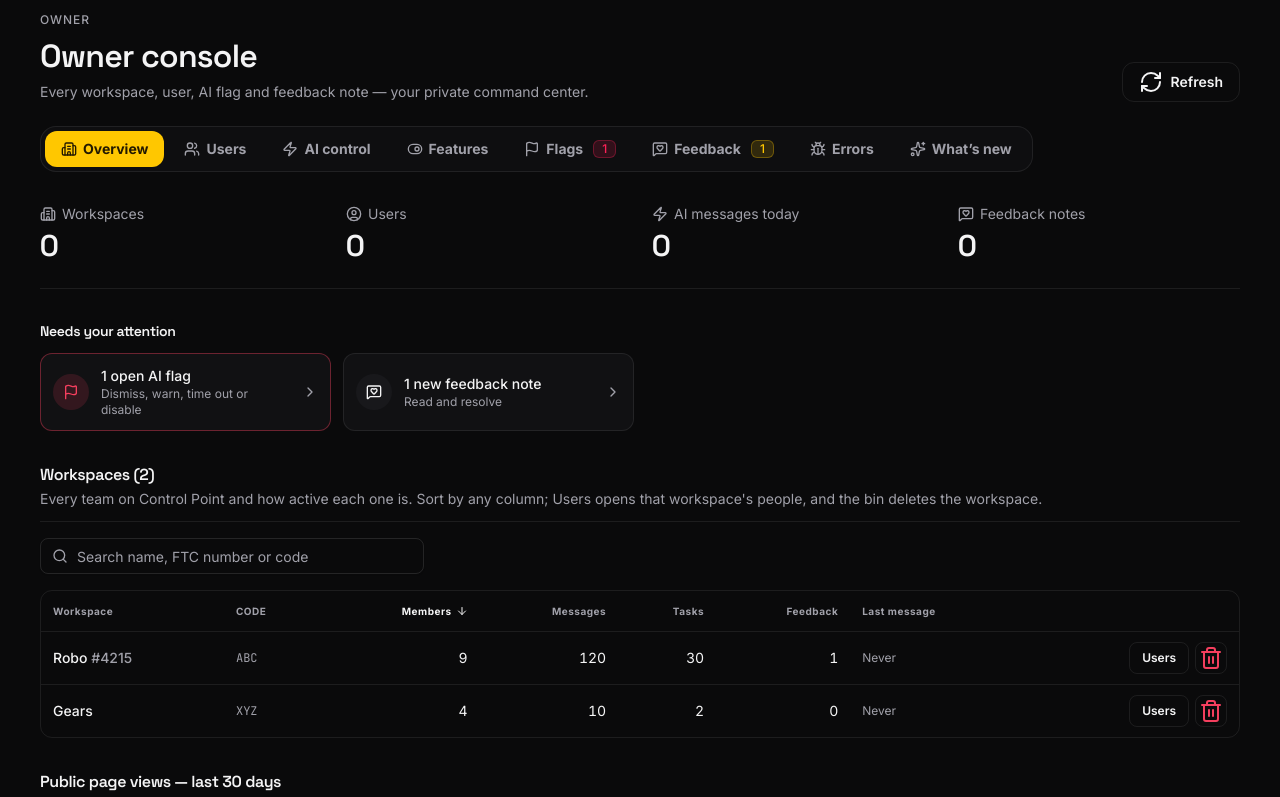
Test: Modern Owner console › feedback: resolving removes it
expect the cell "Robo #4215" is shown: met, box [41, 631, 224, 684]
Press the mouse on the tab "Feedback 1" at (713, 149), box [636, 131, 790, 167]
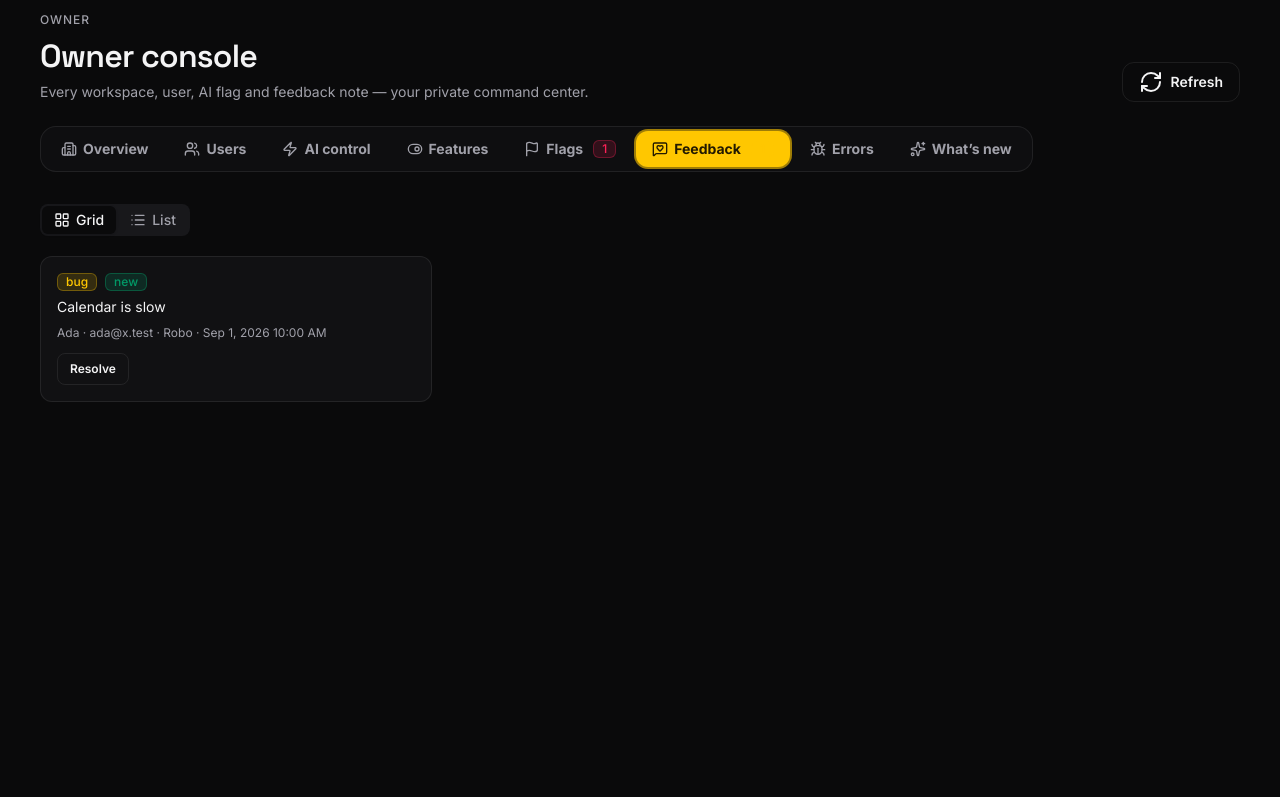
expect the text "Calendar is slow" is shown: met, box [57, 298, 166, 315]
Click the button "Resolve" at (93, 369), box [57, 353, 129, 385]
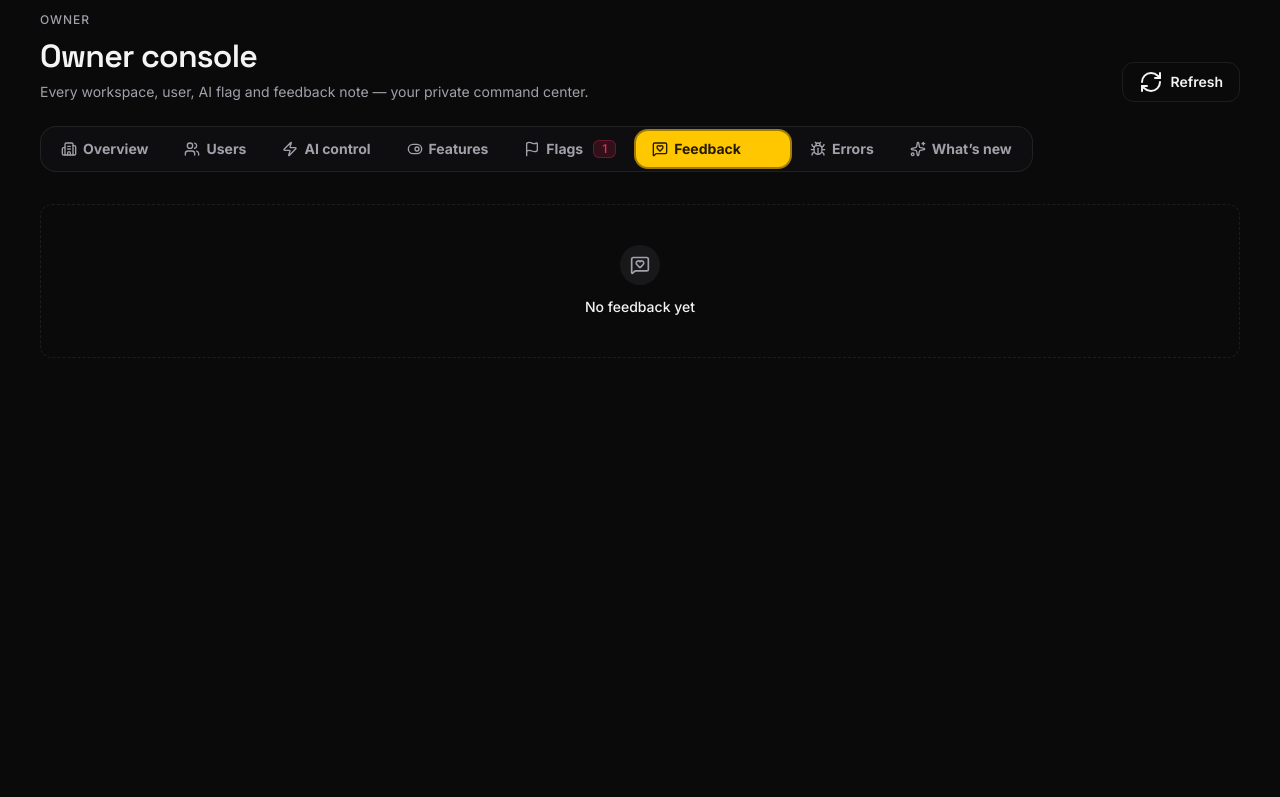
expect the text "Calendar is slow" is gone: met
